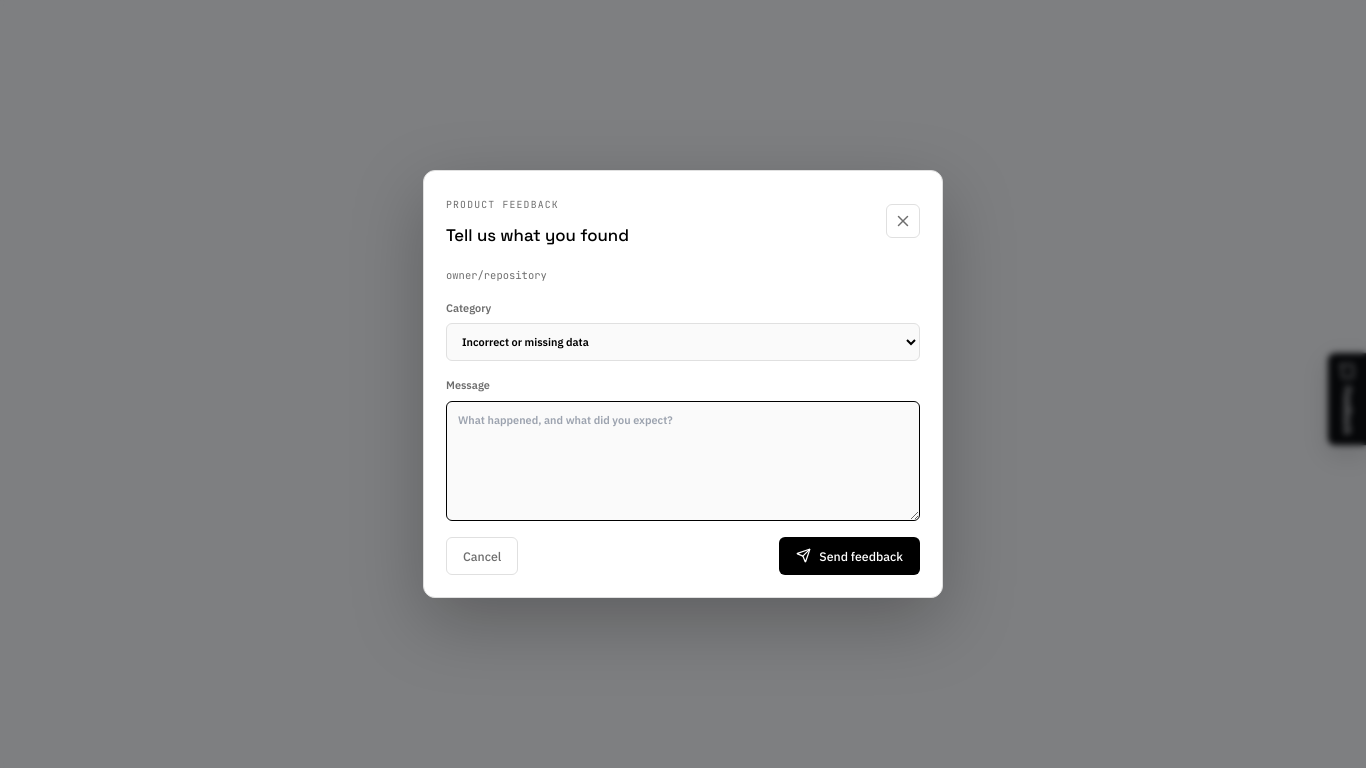
FeedbackWidget › submits repository feedback and clears the form
Check: the text "owner/repository" is shown, box top-left (446, 268), bottom-right (547, 282)
Select "Bug" in the dropdown labelled "Category". click: point(683, 342)
box: top-left (446, 323), bottom-right (920, 361)
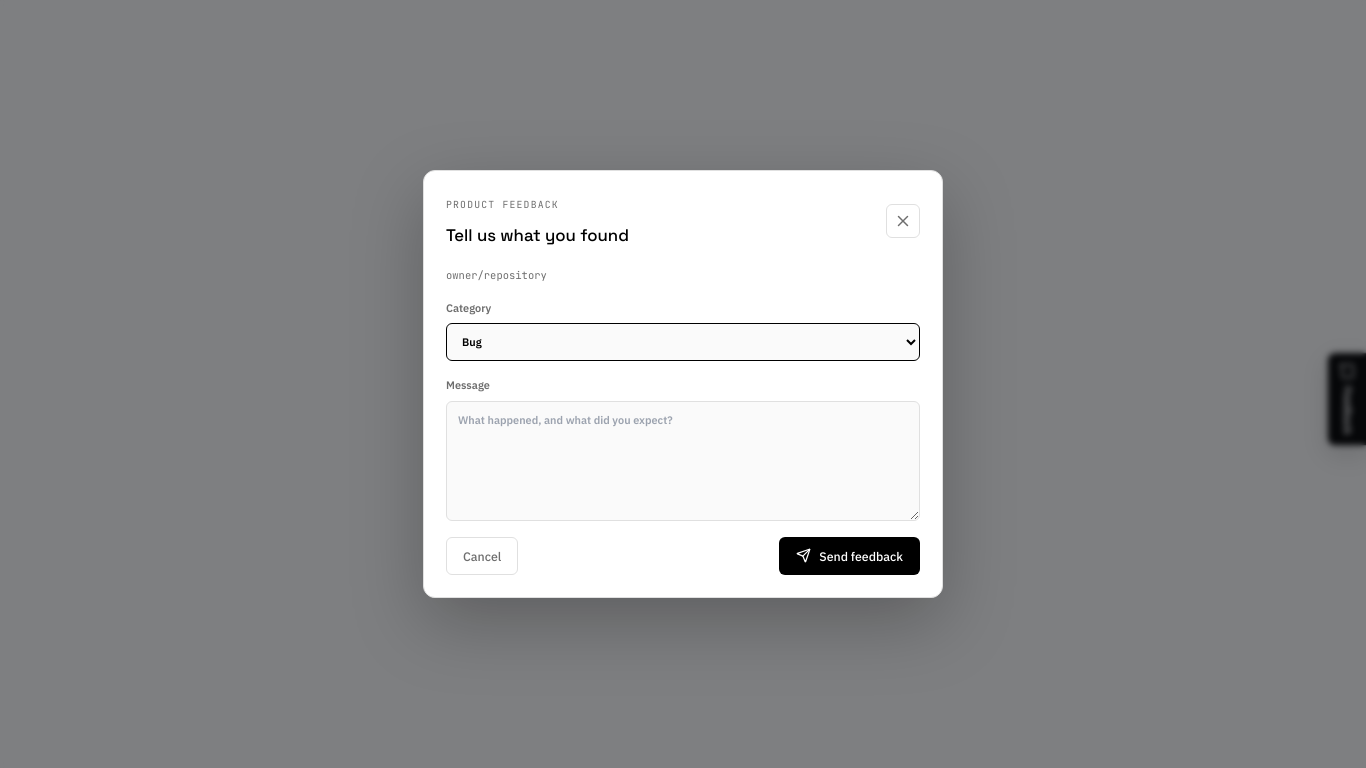
Type "The CVE evidence is missing from this result." into the text box labelled "Message". click: point(683, 461)
box: top-left (446, 401), bottom-right (920, 521)
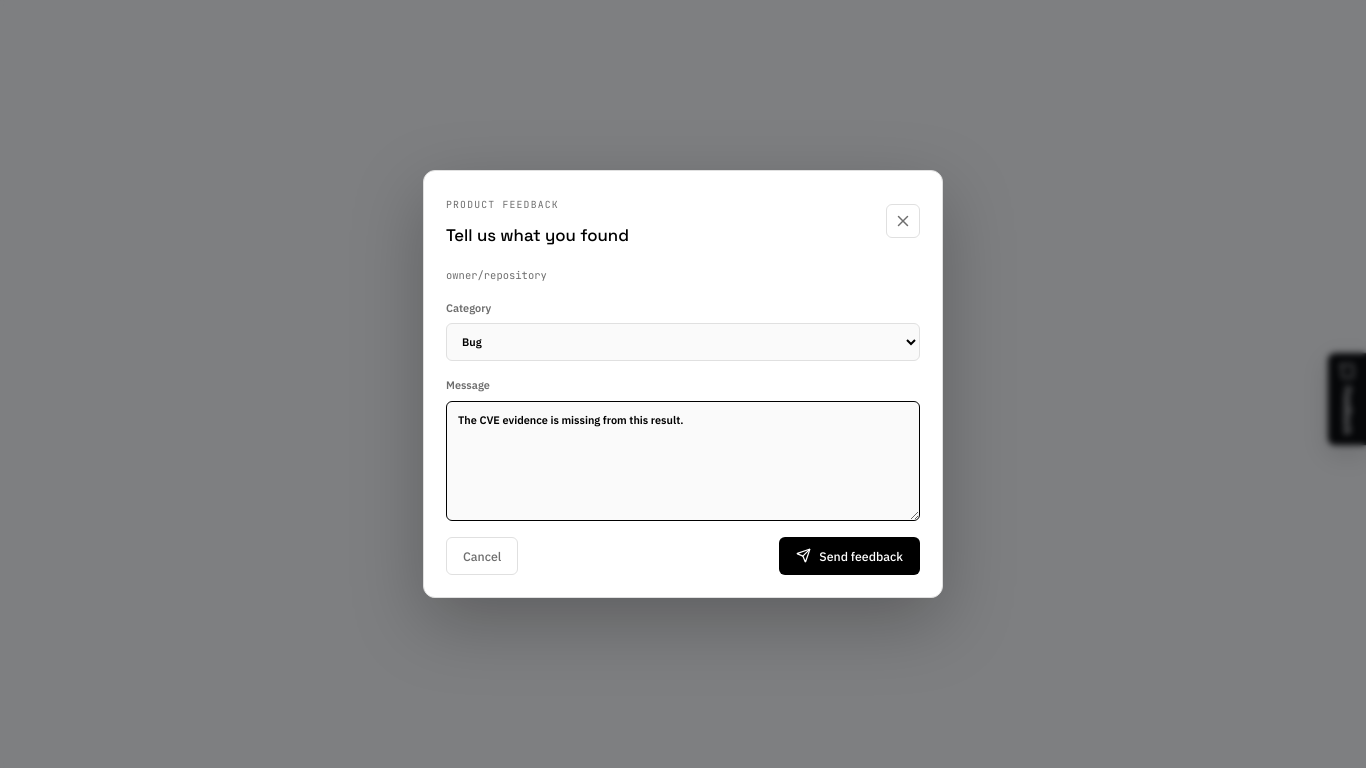
Submit the form, box top-left (446, 268), bottom-right (920, 575)
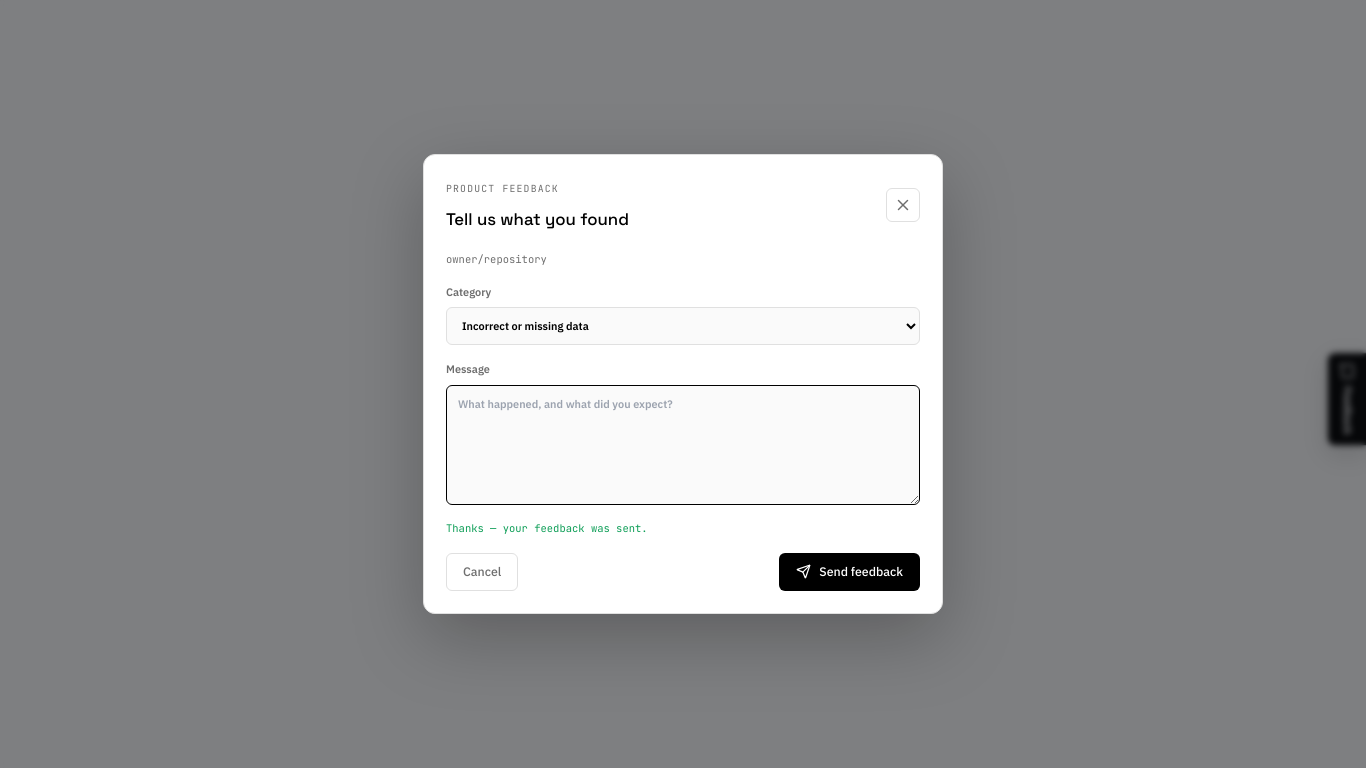
Check: the text "Thanks — your feedback was sent." is shown, box top-left (446, 521), bottom-right (648, 535)
Check: the text box labelled "Message" is empty, box top-left (446, 385), bottom-right (920, 505)
